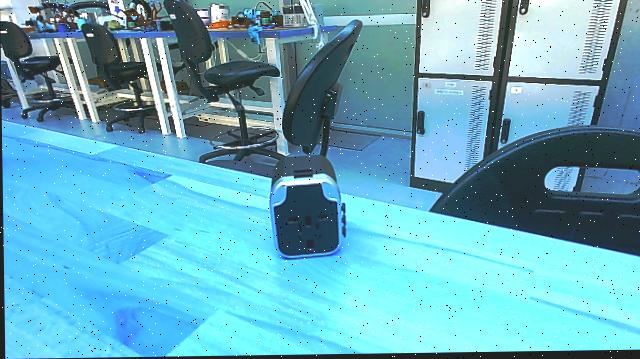adapter: (259, 153, 352, 272)
